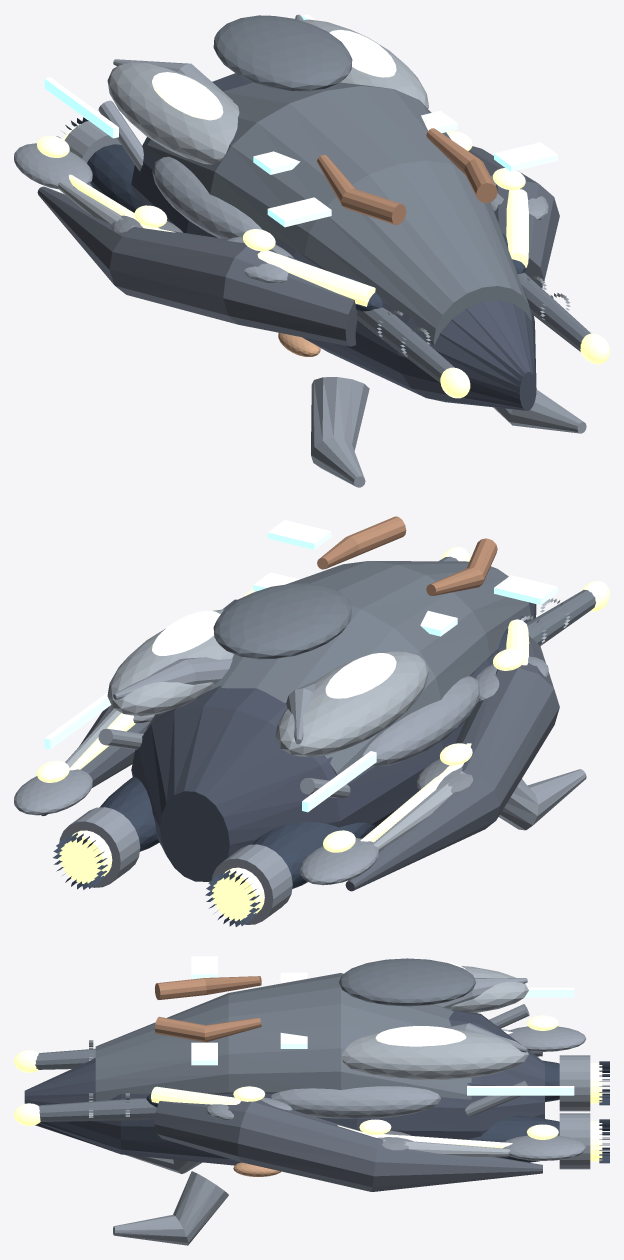
Rendered from npc_aiderStreuner.glb.
3 renders of one model, top to bottom at view 1: azimuth 30°, elevation 25°; view 2: azimuth 150°, elevation 25°; view 3: azimuth 270°, elevation 25°, orthographic. The views are drawn at different scales.
Visible parts, largest first — view 1: upper_armor_scar, armored_scythe_-1, keel_pressure_hull, support_service_tank, support_repair_cell_-1, support_underside_repair_arm_-1, V59 trim baked, heavy_shield_pad_-1, armored_scythe_1, energy_etched_rail_-1, long_plasma_cannon_-1, engine_armor_-1 (+17 smaller); view 2: keel_pressure_hull, upper_armor_scar, armored_scythe_-1, support_service_tank, support_repair_cell_-1, V59 trim baked, support_repair_cell_1, heavy_shield_pad_-1, exhaust_coil_-1, exhaust_coil_1, engine_armor_-1, support_underside_repair_arm_-1 (+26 smaller); view 3: upper_armor_scar, armored_scythe_1, keel_pressure_hull, support_repair_cell_1, support_service_tank, heavy_shield_pad_1, support_underside_repair_arm_1, V59 trim baked, long_plasma_cannon_1, energy_etched_rail_1, support_repair_cell_-1, exhaust_coil_-1 (+26 smaller).
Part boxes in pixels (<box>): upper_armor_scar: <box>146,82,531,345</box>; armored_scythe_-1: <box>37,186,357,346</box>; keel_pressure_hull: <box>131,73,536,410</box>; support_service_tank: <box>213,15,352,91</box>; support_repair_cell_-1: <box>107,60,239,164</box>; support_underside_repair_arm_-1: <box>311,377,369,487</box>; V59 trim baked: <box>44,14,557,227</box>; heavy_shield_pad_-1: <box>152,156,261,239</box>; armored_scythe_1: <box>468,146,559,287</box>; energy_etched_rail_-1: <box>69,174,375,306</box>; long_plasma_cannon_-1: <box>357,307,454,382</box>; engine_armor_-1: <box>87,144,142,212</box>; keel_pressure_hull: <box>131,602,536,881</box>; upper_armor_scar: <box>146,561,531,775</box>; armored_scythe_-1: <box>345,636,559,891</box>; support_service_tank: <box>213,583,352,659</box>; support_repair_cell_-1: <box>275,651,428,757</box>; V59 trim baked: <box>44,520,557,812</box>; support_repair_cell_1: <box>107,609,233,716</box>; heavy_shield_pad_-1: <box>362,676,479,766</box>; exhaust_coil_-1: <box>212,844,292,924</box>; exhaust_coil_1: <box>59,807,140,887</box>; engine_armor_-1: <box>252,822,375,888</box>; support_underside_repair_arm_-1: <box>499,769,586,830</box>; upper_armor_scar: <box>95,973,471,1101</box>; armored_scythe_1: <box>154,1097,542,1191</box>; keel_pressure_hull: <box>24,1010,544,1165</box>; support_repair_cell_1: <box>341,1030,528,1079</box>; support_service_tank: <box>339,958,476,1006</box>; heavy_shield_pad_1: <box>270,1086,440,1118</box>; support_underside_repair_arm_1: <box>113,1171,228,1245</box>; V59 trim baked: <box>191,956,574,1095</box>; long_plasma_cannon_1: <box>38,1098,156,1121</box>; energy_etched_rail_1: <box>151,1086,512,1148</box>; support_repair_cell_-1: <box>450,966,528,1012</box>; exhaust_coil_-1: <box>559,1055,590,1111</box>.
Bounding box in the file's own units: 1.84 × 1.38 × 3.12.
